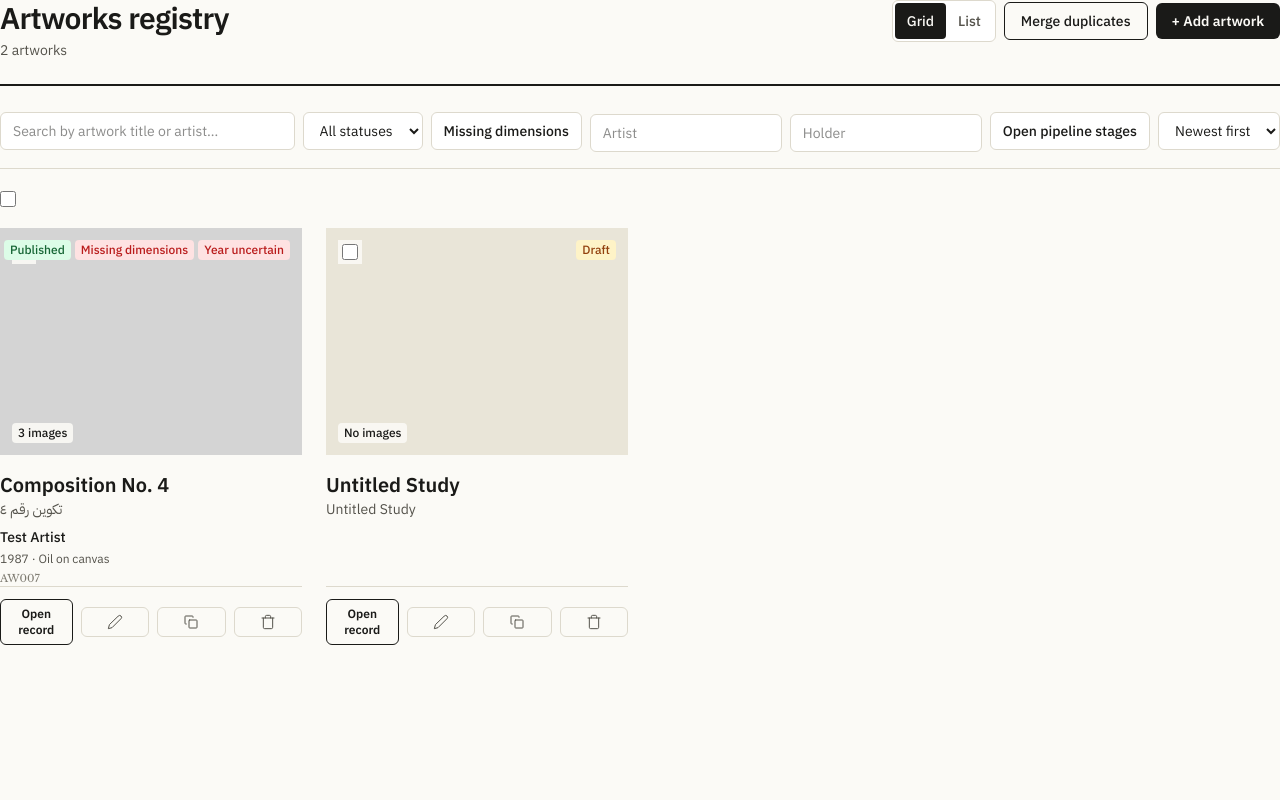
ArtworksRegistryPage row actions › shows the delete error and keeps the dialog open on failure
The width and height of the screenshot is (1280, 800).
What coordinates should you click on to do the following:
click the button with test id "card-delete" below "AW007"
I would click on:
 (268, 622)
Its box is [234,607,302,637].
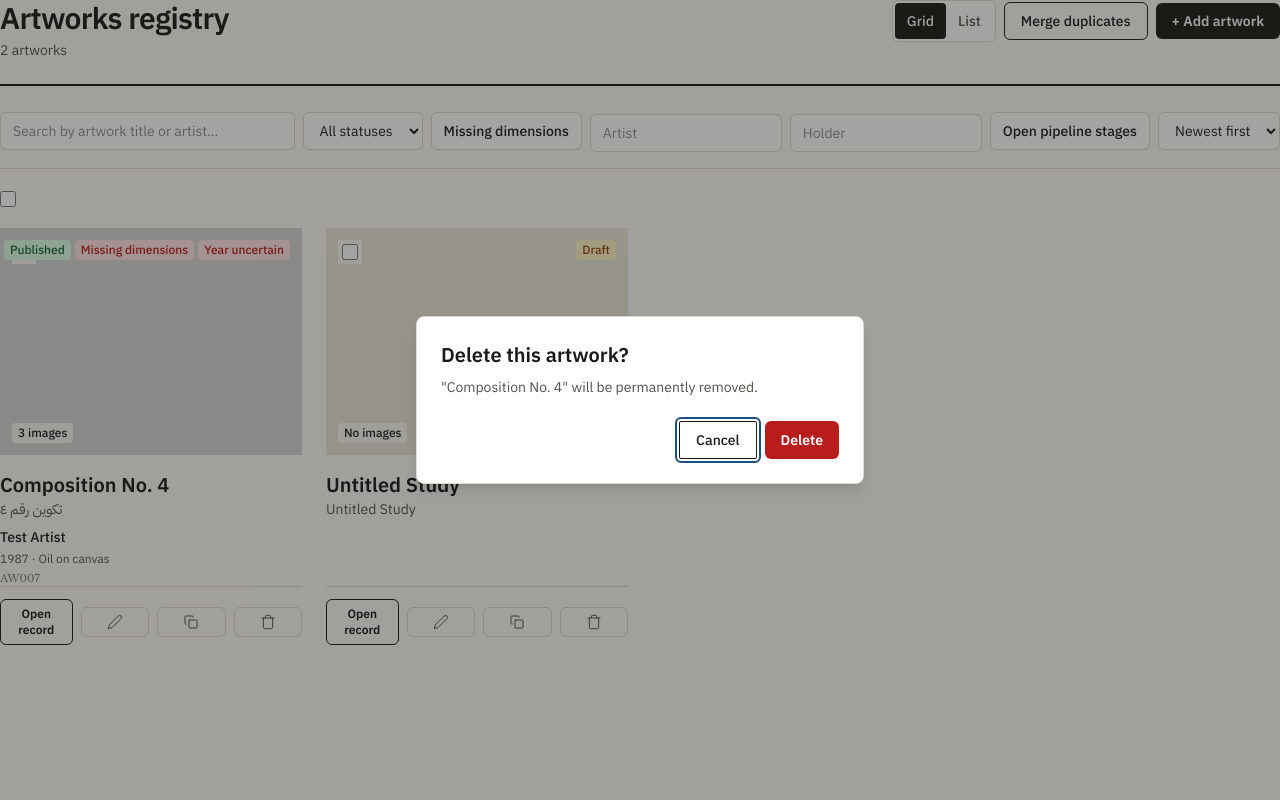
What coordinates should you click on to do the following:
click the button with test id "confirm-dialog-confirm"
I would click on:
 (802, 440)
Its box is [765,421,839,459].
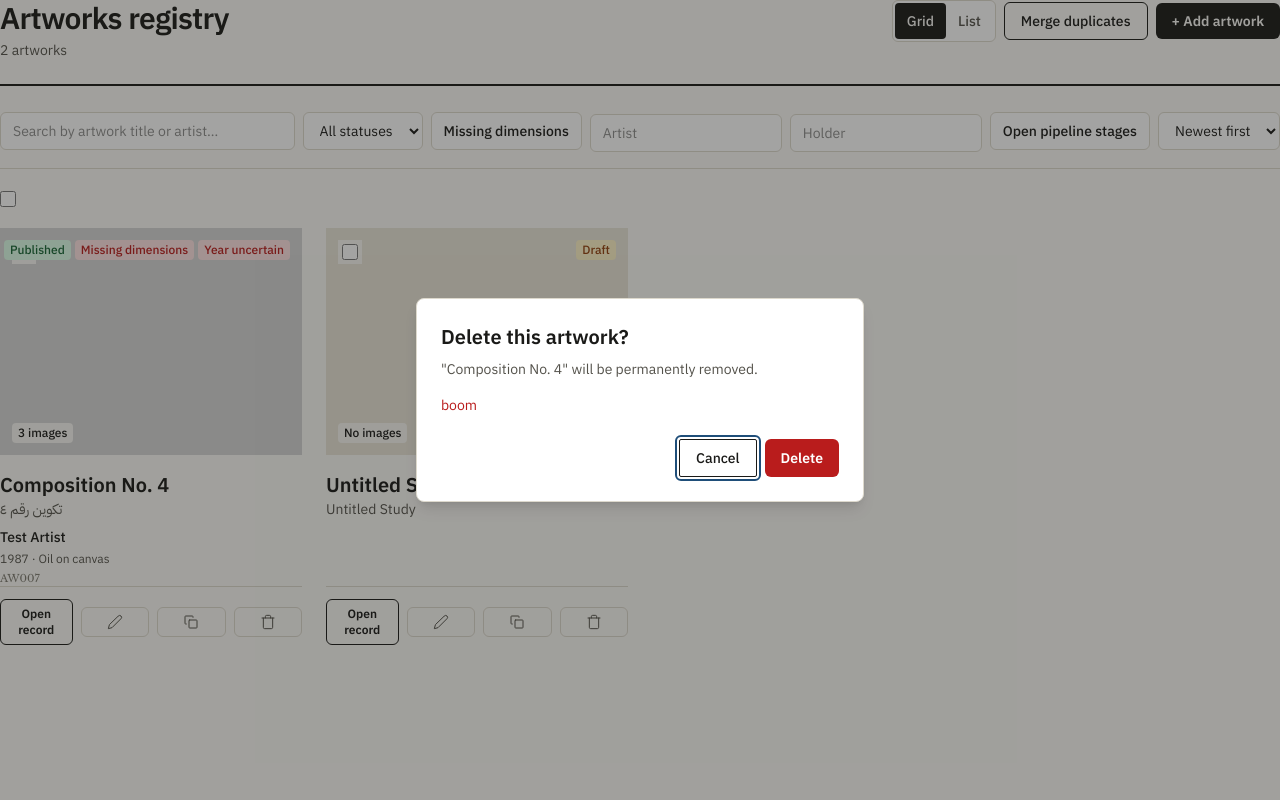
Now the text "boom" is shown, box [441,396,477,414]
